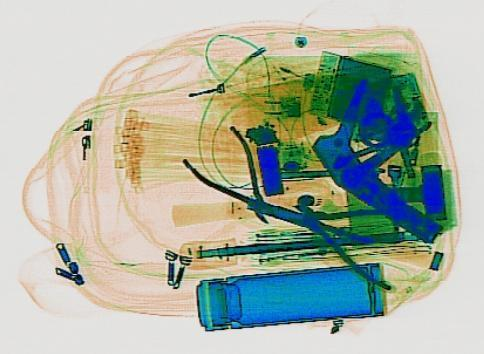Pliers: (260, 174, 448, 291), (169, 124, 303, 232)
